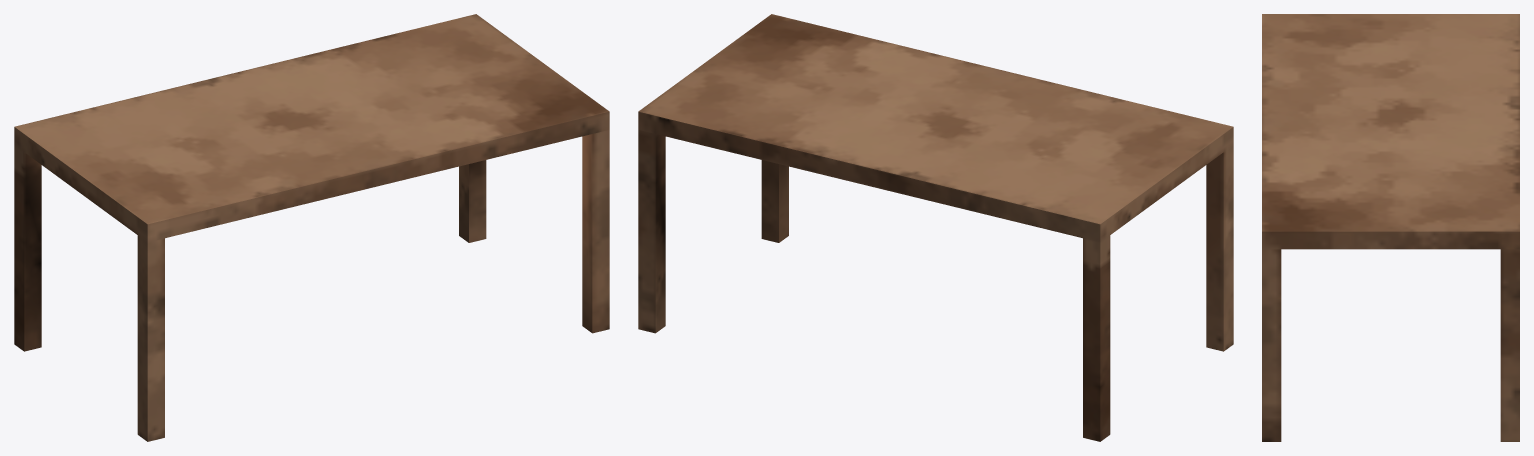
The model's file is Table1.fbx.
The picture shows the model from 3 angles, left to right: view 1: azimuth 30°, elevation 25°; view 2: azimuth 150°, elevation 25°; view 3: azimuth 270°, elevation 25°; orthographic projection. The views are drawn at different scales.
Parts seen in each view (by area): view 1: Table1; view 2: Table1; view 3: Table1.
Part boxes in pixels (<box>): Table1: <box>14,14,609,441</box>; Table1: <box>638,14,1233,441</box>; Table1: <box>1262,14,1519,441</box>.
Size of the model in its own units: 2 by 0.9 by 1.
